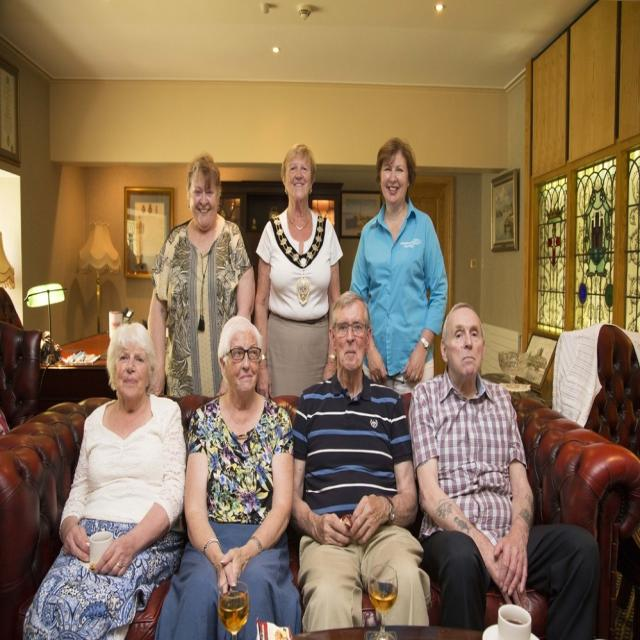body: (403, 299, 609, 639), (18, 319, 192, 639), (289, 288, 434, 639), (152, 308, 303, 639), (146, 151, 256, 399), (346, 136, 449, 400), (252, 140, 346, 400)
